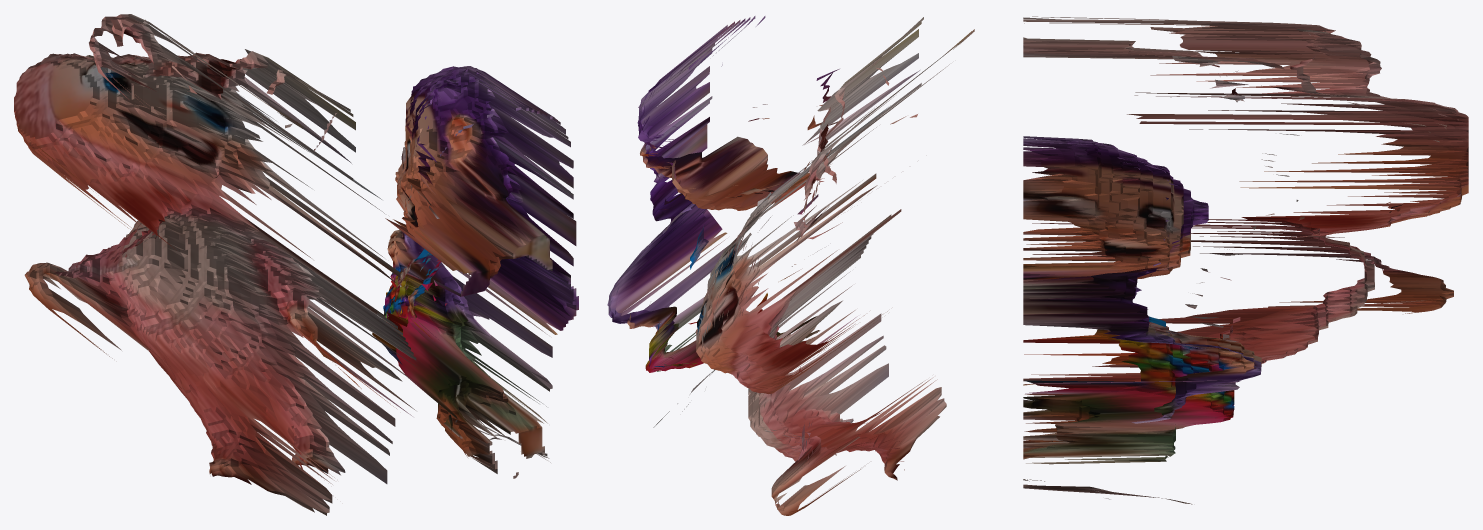
File: frame_00075.glb
The picture shows the model from 3 angles, left to right: view 1: azimuth 30°, elevation 25°; view 2: azimuth 150°, elevation 25°; view 3: azimuth 270°, elevation 25°; orthographic projection. The views are drawn at different scales.
Parts seen in each view (by area): view 1: geometry_0; view 2: geometry_0; view 3: geometry_0.
Boxes of the visible parts, box(x1,y1,x2,y2) form: geometry_0: box(14, 14, 578, 515); geometry_0: box(607, 16, 974, 515); geometry_0: box(1023, 16, 1468, 504).
Size of the model in its own units: 0.1228 by 0.1535 by 0.16.
1 material, 1 textured.
